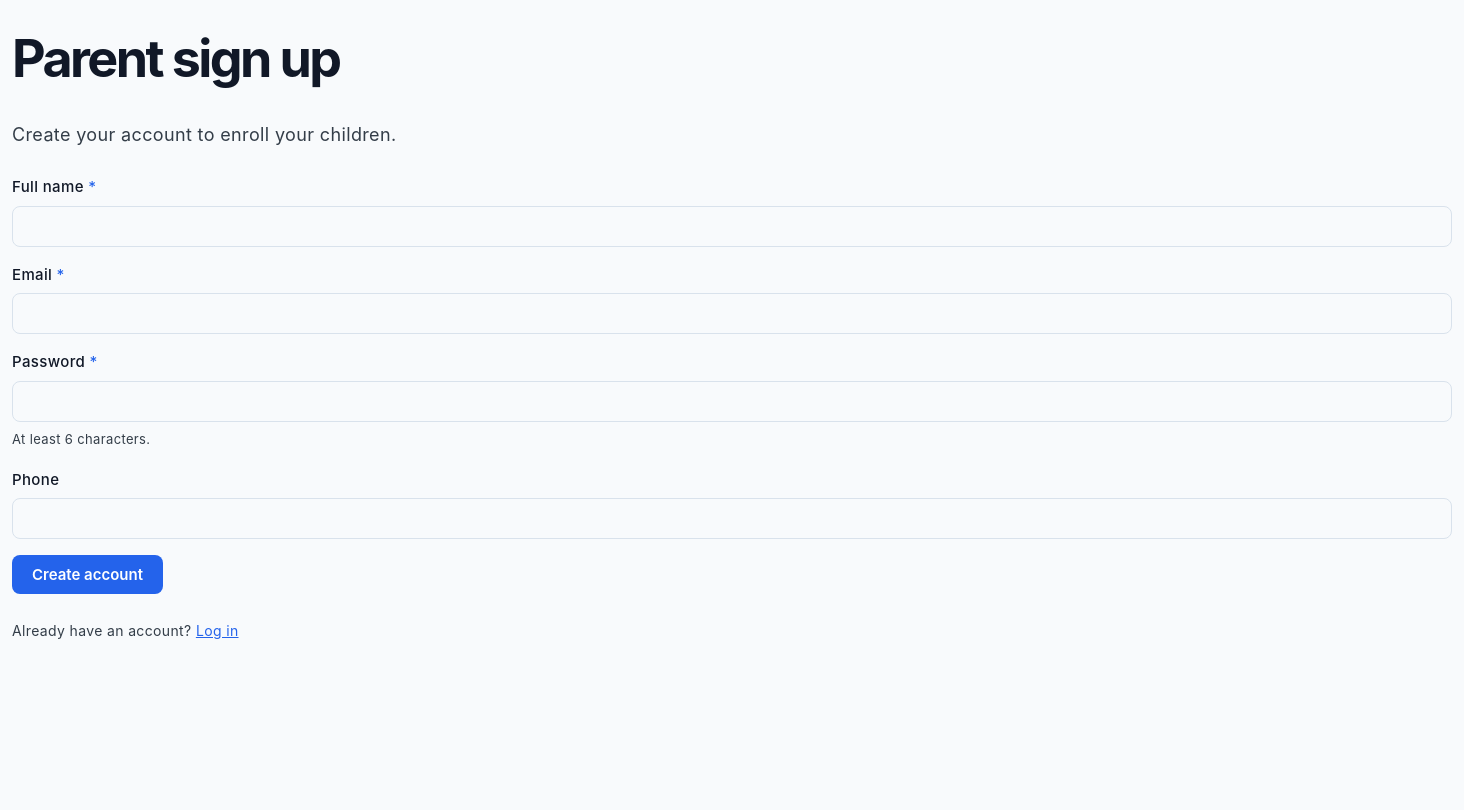
Test: ParentSignupForm › surfaces a Supabase signUp error
Type "Jane Parent" into the field labelled "Full name *" at (732, 226), box [12,206,1452,247]
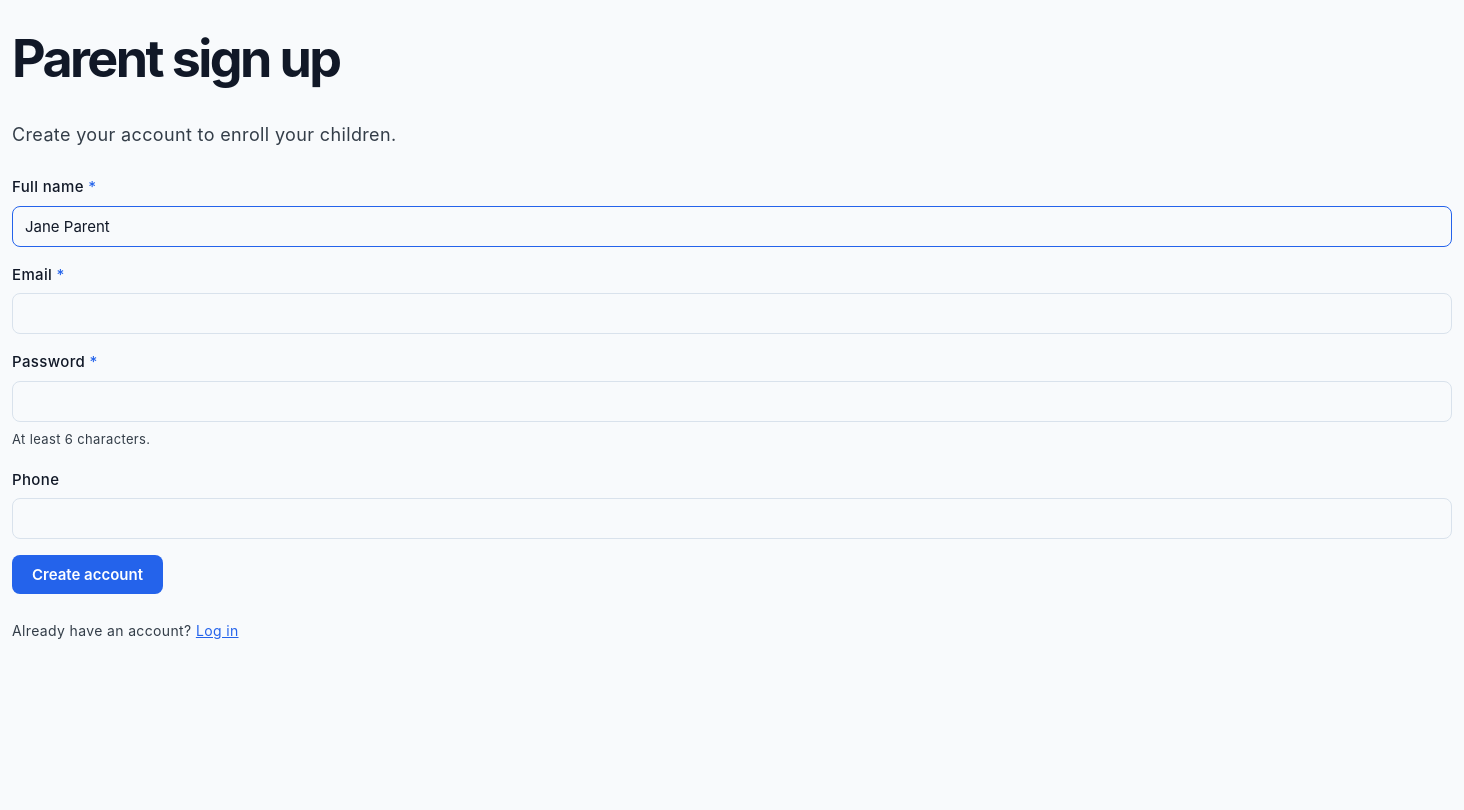
Type "parent@example.com" into the field labelled "Email *" at (732, 314), box [12,294,1452,334]
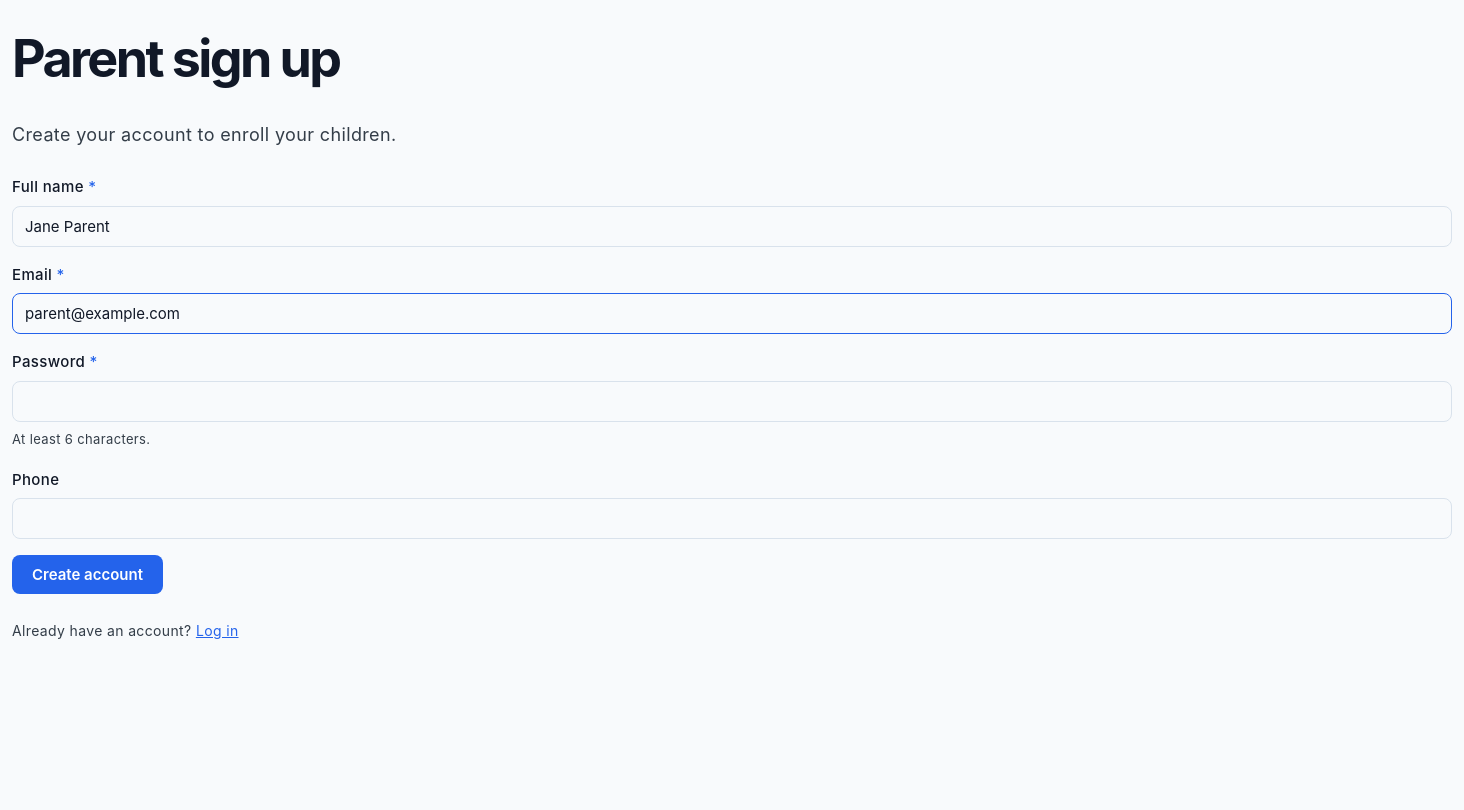
Type "secret123" into the password field labelled "Password *" at (732, 402), box [12,381,1452,422]
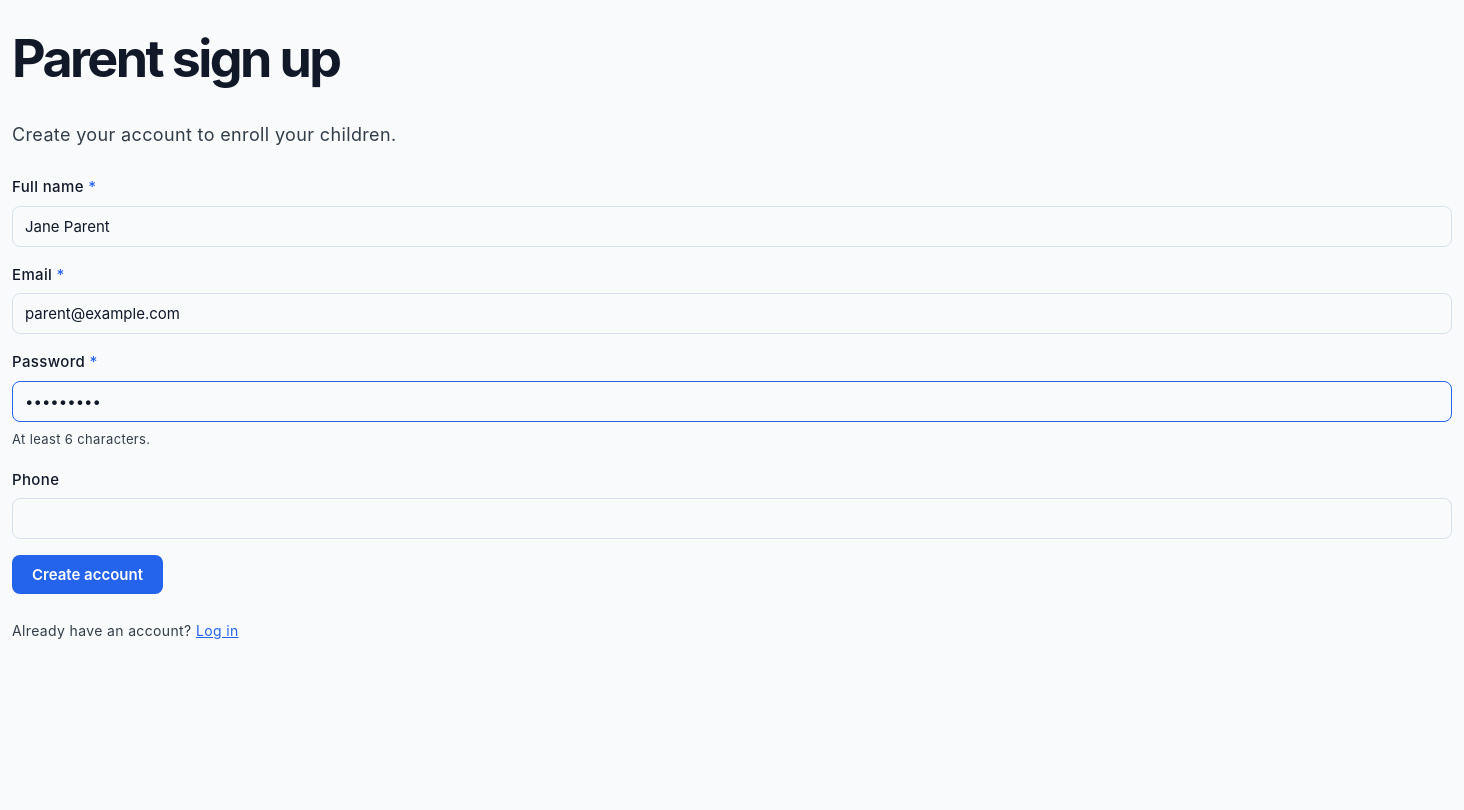
Type "5551234567" into the field labelled "Phone" at (732, 519), box [12,498,1452,539]
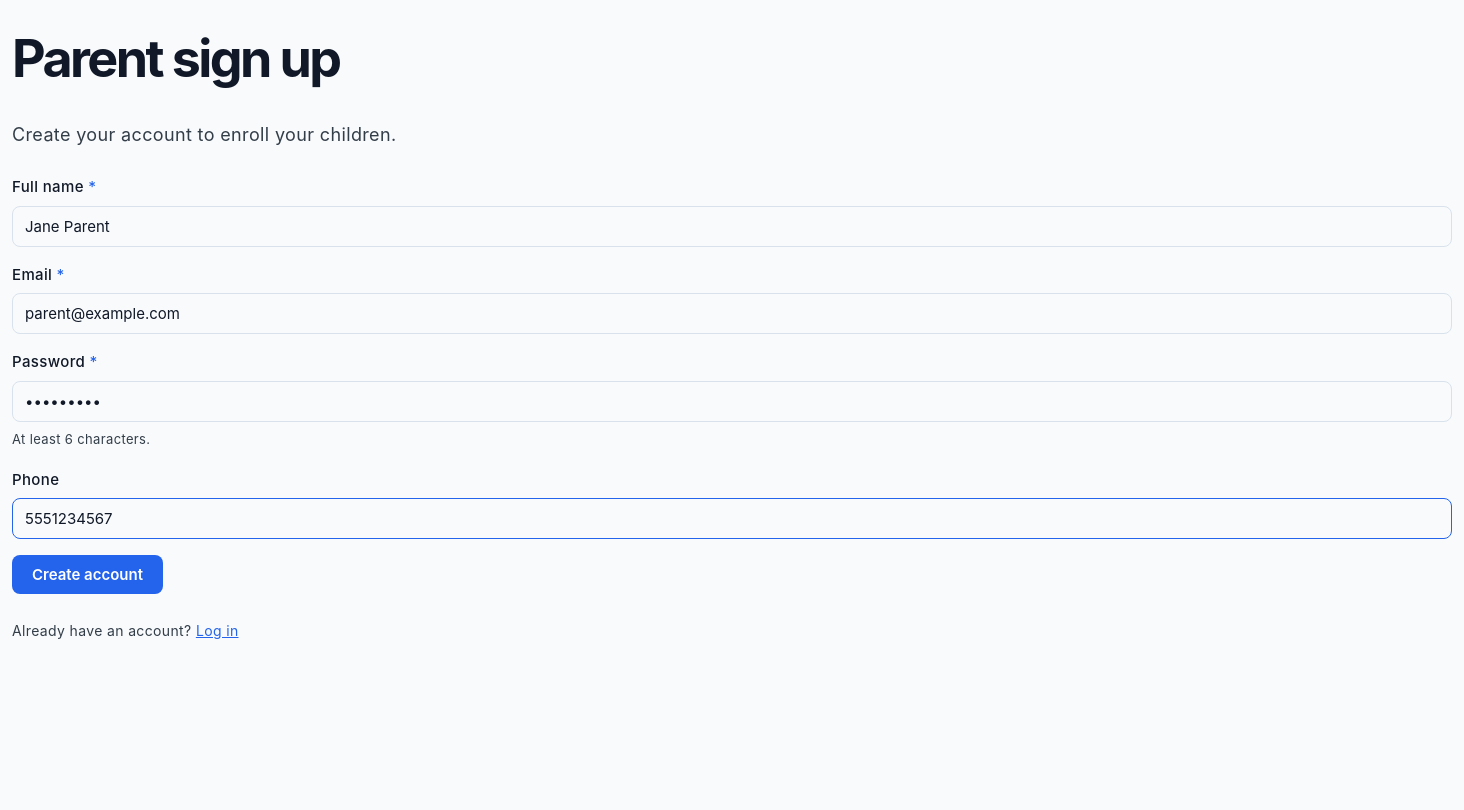
Click the button "Create account" at (88, 575), box [12,555,163,594]
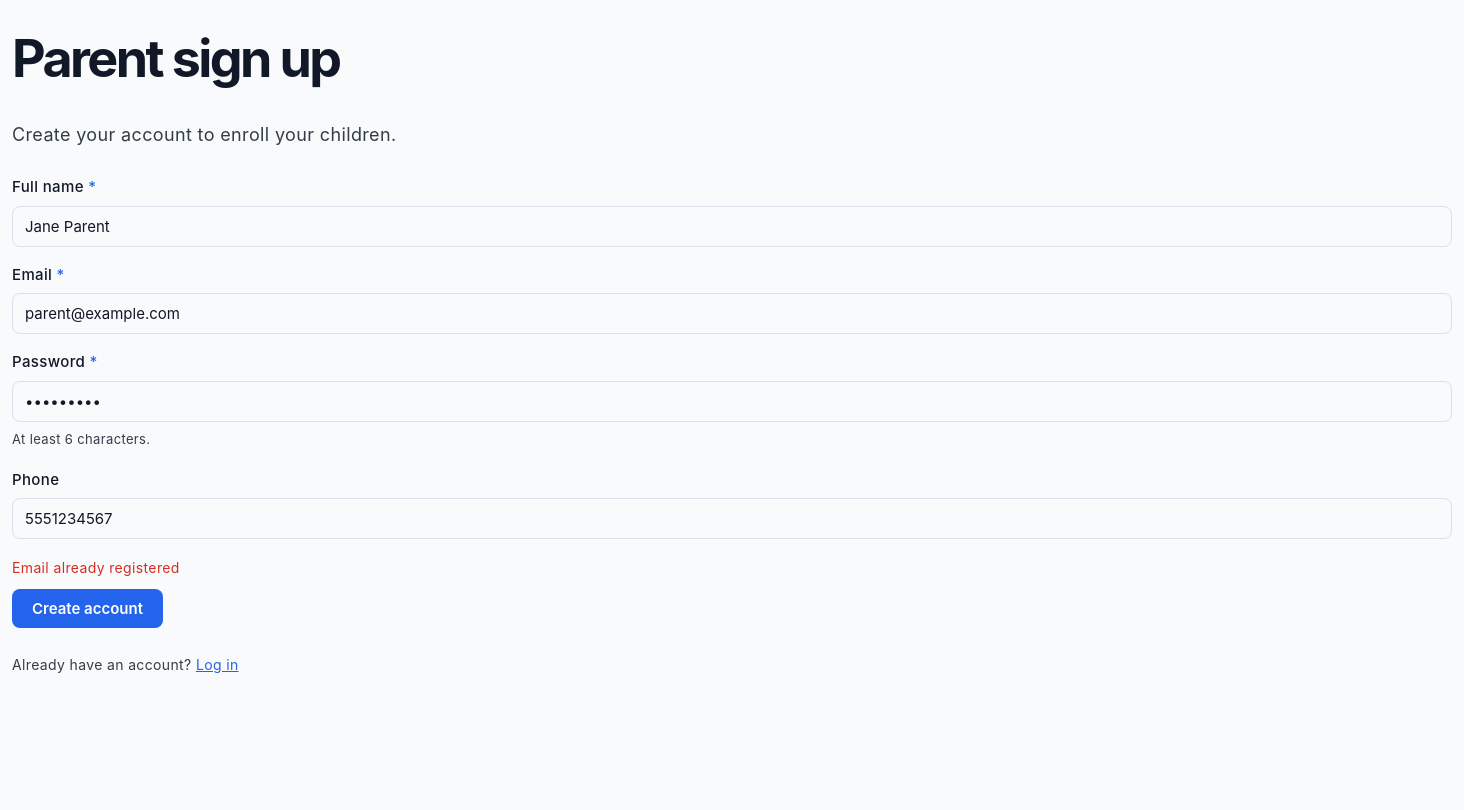
Check: the text "Email already registered" is shown, box [12,559,180,576]
